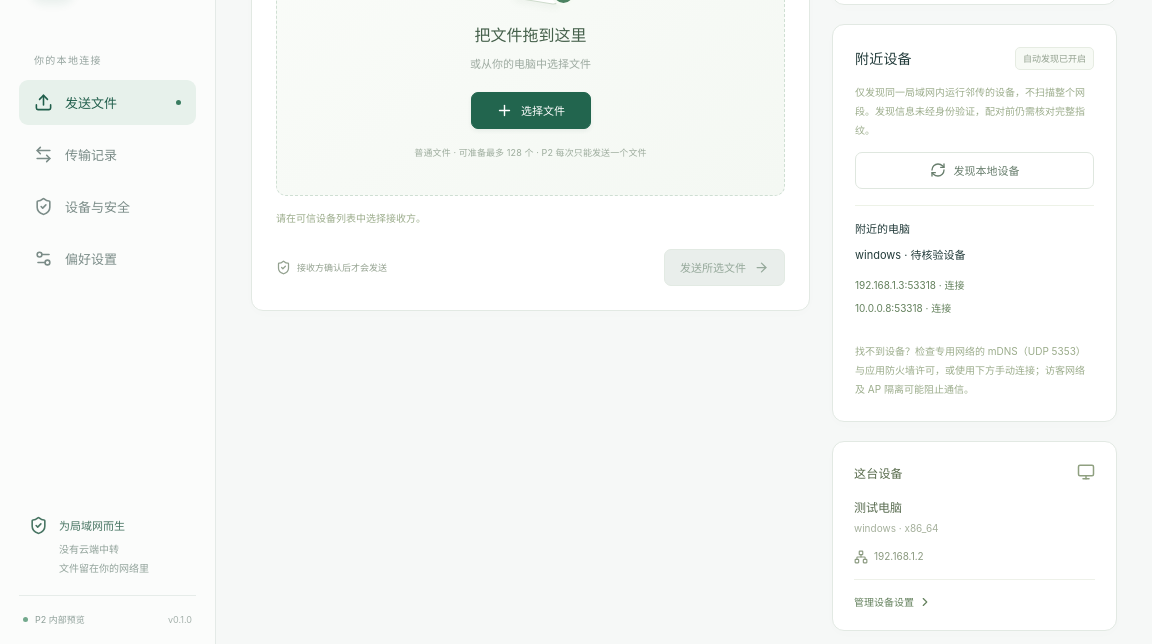
Test: nearby device discovery › fills the chosen interface without trusting it or bypassing fingerprint verification
Later steps or results of the test are not shown.
(page scrolled)
Step 1. Click the button "192.168.1.3:53318 · 连接" → x=910, y=285, box [855,277,964,292]
(page scrolled)
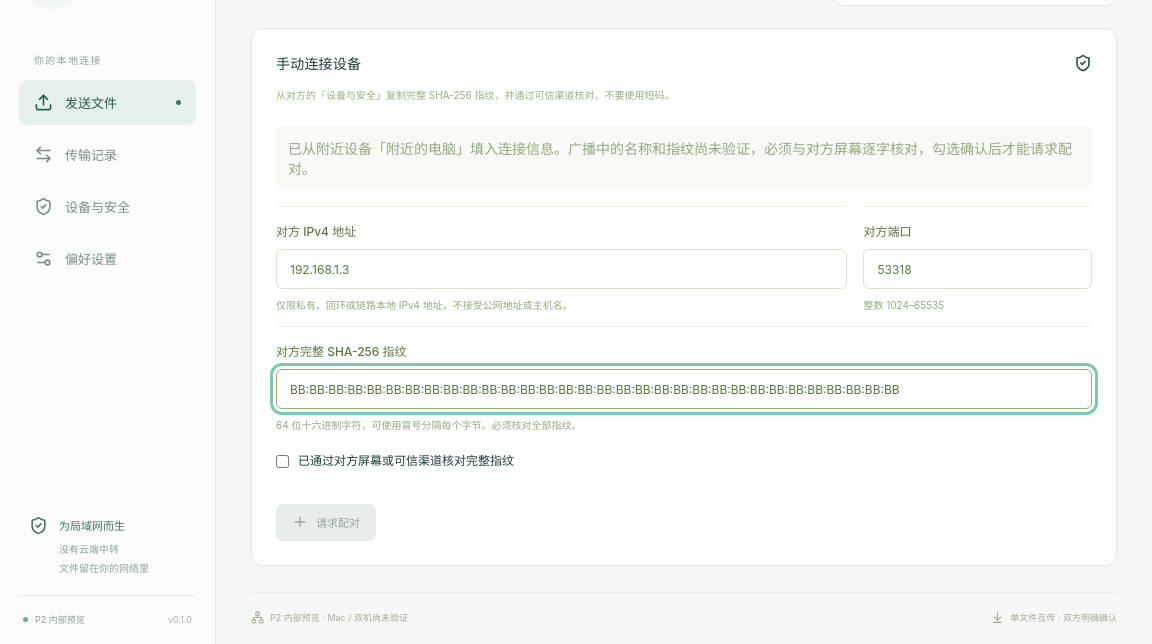
Expected: the button "请求配对" is disabled, [276,504,376,541]
Expected: the field labelled "对方 IPv4 地址" holds "192.168.1.3", [276,249,847,289]
Step 2. Click the checkbox labelled "已通过对方屏幕或可信渠道核对完整指纹" → x=282, y=462, box [276,455,289,468]
(page scrolled)
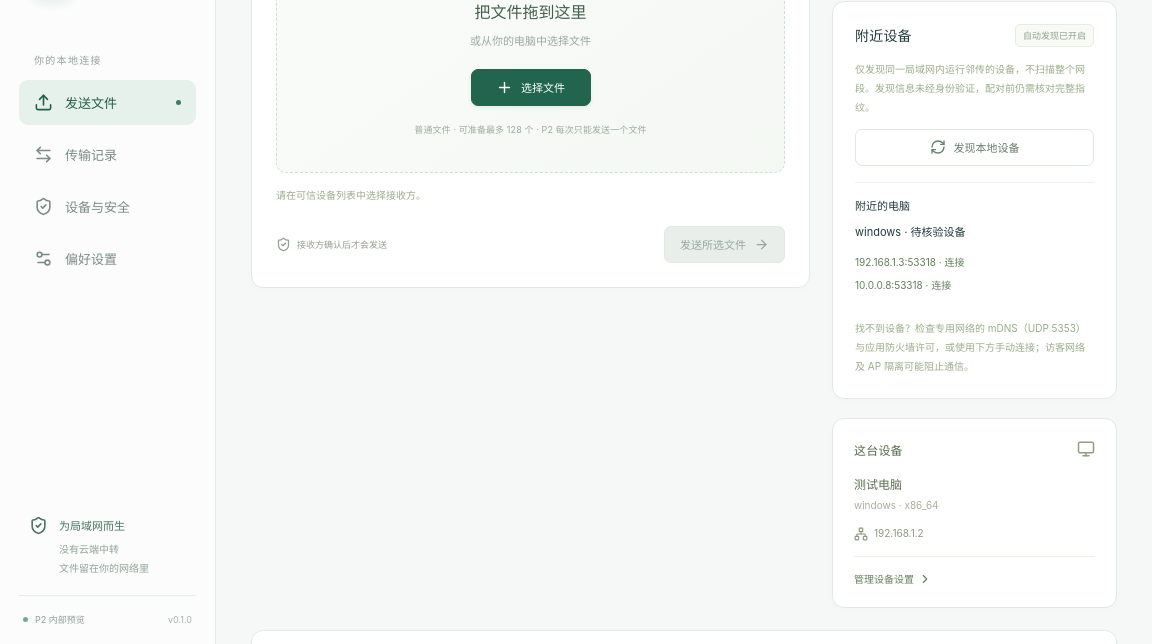
Step 3. Click the button "10.0.0.8:53318 · 连接" → x=903, y=285, box [855,277,951,292]
(page scrolled)
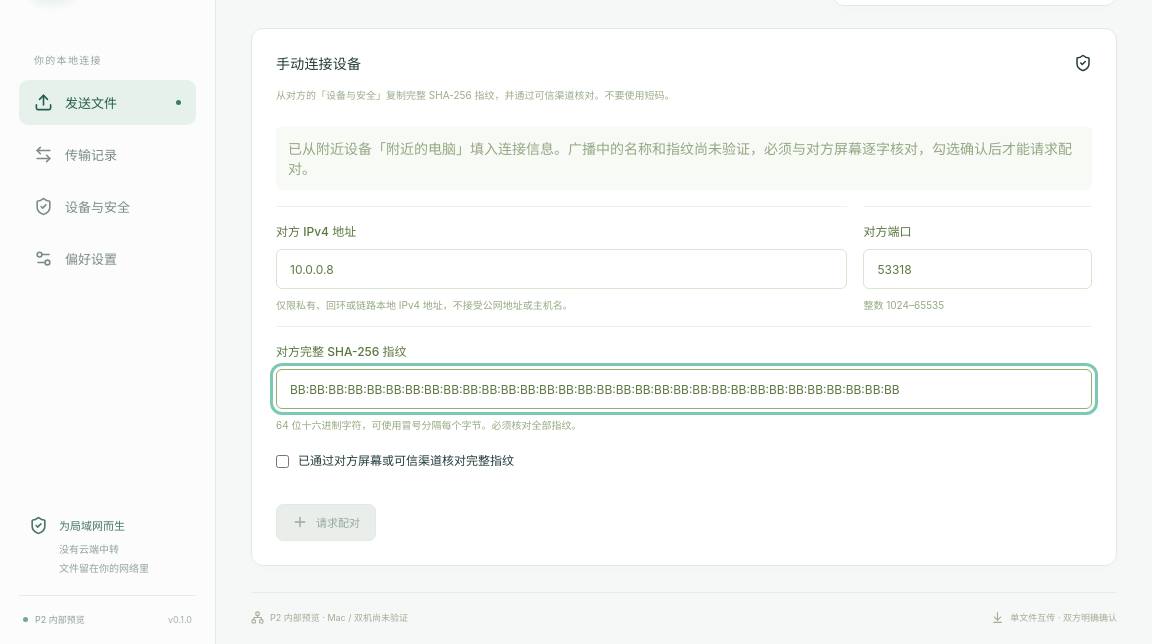
Expected: the checkbox labelled "已通过对方屏幕或可信渠道核对完整指纹" is not checked, [276,455,289,468]
Expected: the field labelled "对方 IPv4 地址" holds "10.0.0.8", [276,249,847,289]
